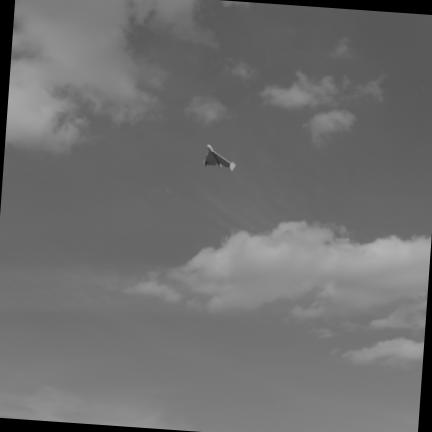Shahed: (203, 145, 234, 169)
